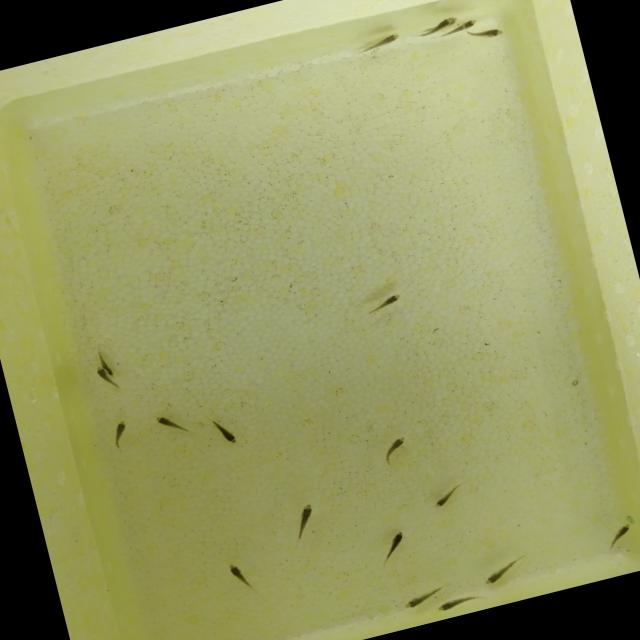fingerling: (281, 498, 327, 550), (476, 552, 534, 588), (220, 556, 264, 600), (371, 527, 414, 571), (348, 27, 406, 59), (394, 580, 454, 610), (150, 406, 194, 444), (426, 477, 473, 511), (372, 432, 415, 468), (431, 590, 489, 616), (598, 519, 640, 553), (358, 290, 408, 318), (102, 416, 136, 453), (210, 411, 242, 450), (410, 13, 458, 38), (466, 22, 510, 46), (96, 364, 116, 393), (458, 15, 482, 31)
